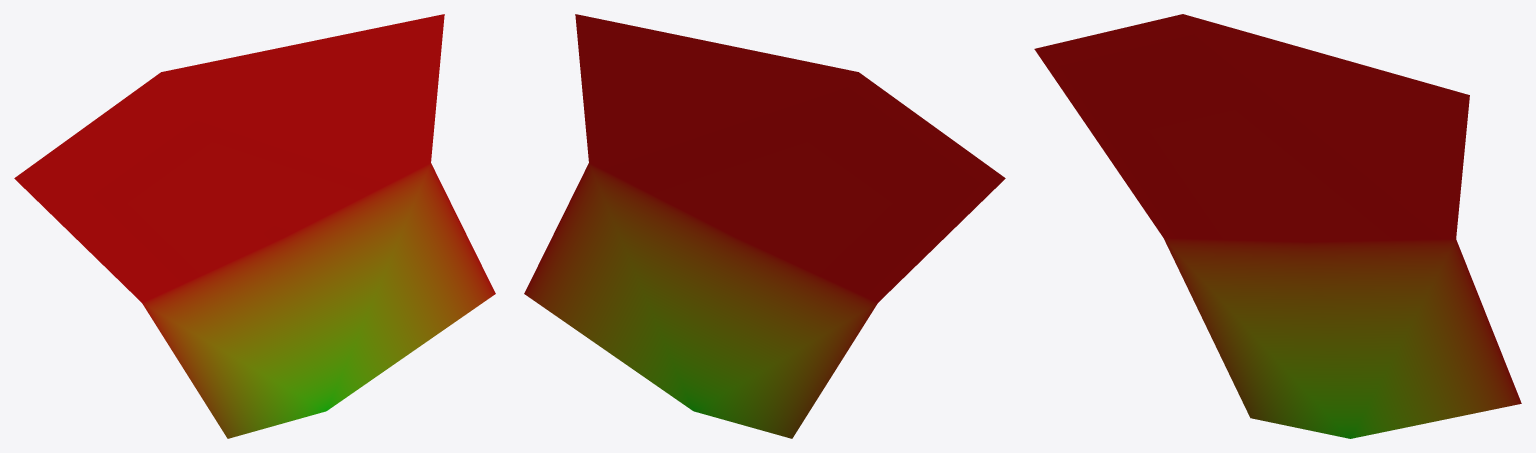
Rendered from Raspberry_LOD4_Var8_wf0oefeja.fbx.
3 renders of one model, left to right at view 1: azimuth 30°, elevation 25°; view 2: azimuth 150°, elevation 25°; view 3: azimuth 330°, elevation 25°, orthographic.
Visible parts, largest first — view 1: _bq9p_Var8_LOD4; view 2: _bq9p_Var8_LOD4; view 3: _bq9p_Var8_LOD4.
Boxes of the visible parts, x1,y1,x2,y2 form: _bq9p_Var8_LOD4: [14, 14, 495, 438]; _bq9p_Var8_LOD4: [524, 14, 1005, 438]; _bq9p_Var8_LOD4: [1034, 14, 1521, 438].
Bounding box in the file's own units: 68.63 × 52.15 × 6.22e-06.
